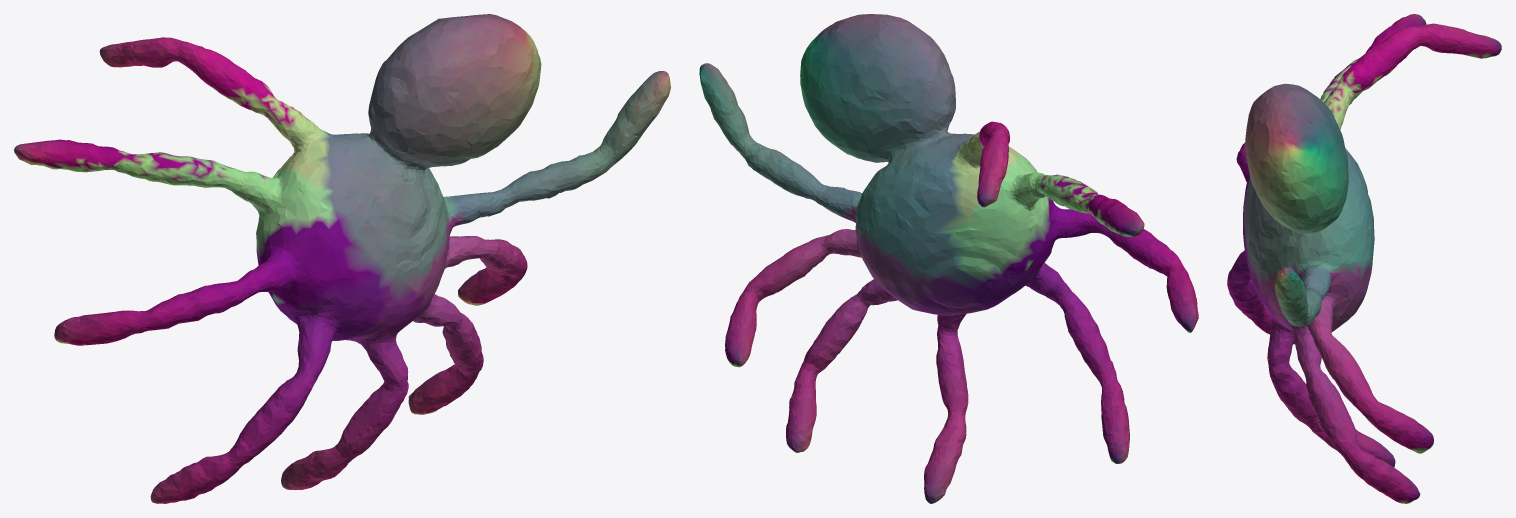
File: spider-13.off.obj
The picture shows the model from 3 angles, left to right: view 1: azimuth 30°, elevation 25°; view 2: azimuth 150°, elevation 25°; view 3: azimuth 270°, elevation 25°; orthographic projection. The views are drawn at different scales.
Size of the model in its own units: 1.66 by 1.31 by 0.7602.
